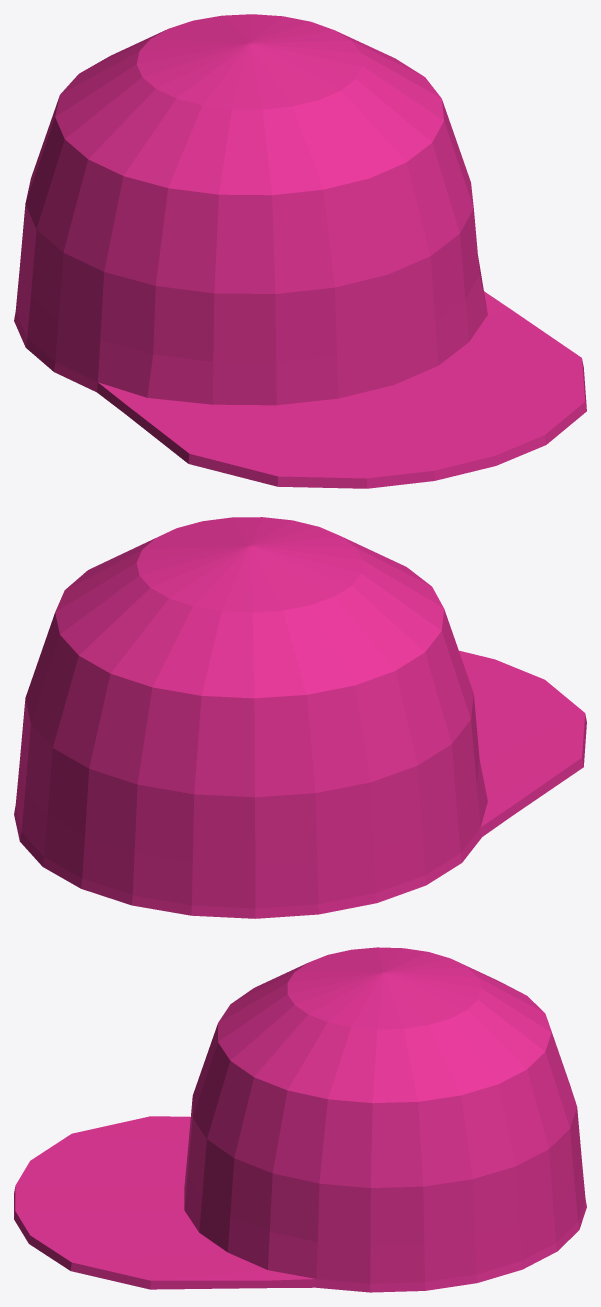
File: kacket2.fbx
The picture shows the model from 3 angles, top to bottom: view 1: azimuth 30°, elevation 25°; view 2: azimuth 150°, elevation 25°; view 3: azimuth 270°, elevation 25°; orthographic projection. The views are drawn at different scales.
Parts seen in each view (by area): view 1: Sphere.003; view 2: Sphere.003; view 3: Sphere.003.
Part boxes in pixels (box(x1,y1,x2,y2)): Sphere.003: box(14, 14, 586, 488); Sphere.003: box(14, 517, 586, 918); Sphere.003: box(14, 947, 586, 1292).
Size of the model in its own units: 108 by 69.13 by 153.
